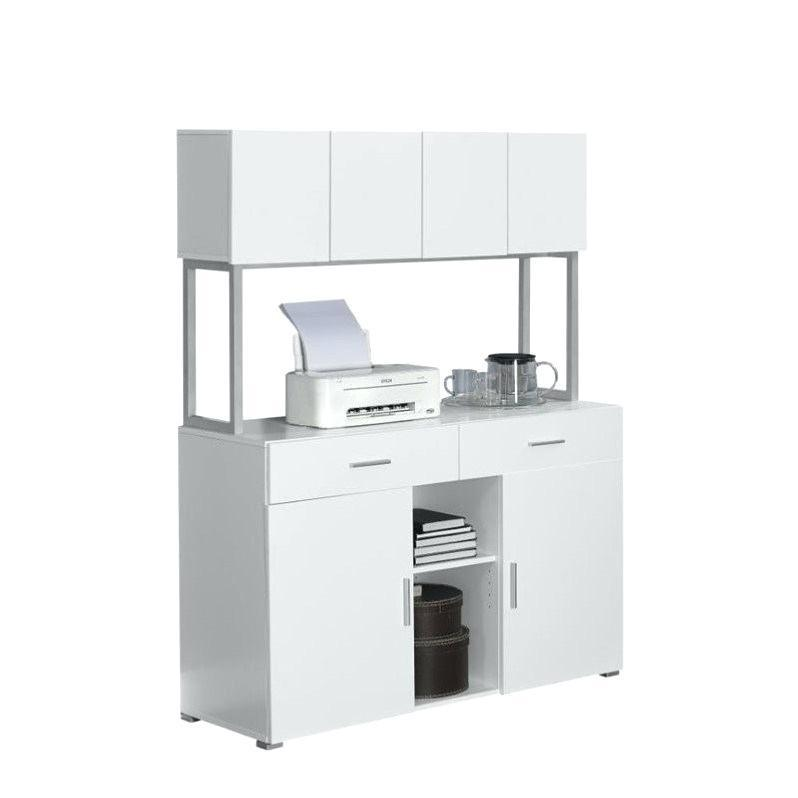cabinet_door: (280, 499, 417, 717), (504, 466, 617, 681), (238, 133, 330, 262), (331, 138, 422, 264), (270, 436, 454, 494), (420, 133, 505, 256), (508, 137, 582, 252), (462, 420, 617, 466)
handle: (346, 452, 394, 473), (524, 432, 568, 454), (398, 574, 413, 633), (510, 558, 525, 614)
